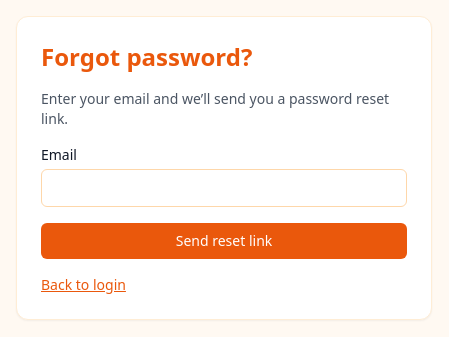
Test: requests an email with a root callback and shows a non-enumerating confirmation
Type "person@example.com" into the field labelled "Email".
click(224, 188); type("person@example.com")  # box [41,169,407,207]
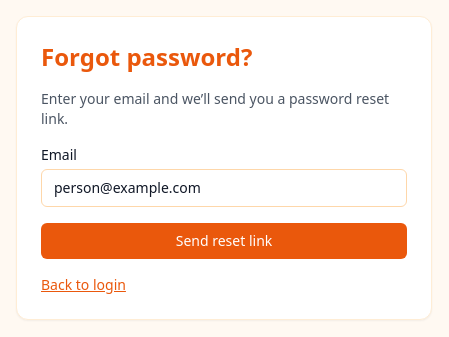
Click the button "Send reset link".
click(224, 241)  # box [41,223,407,259]
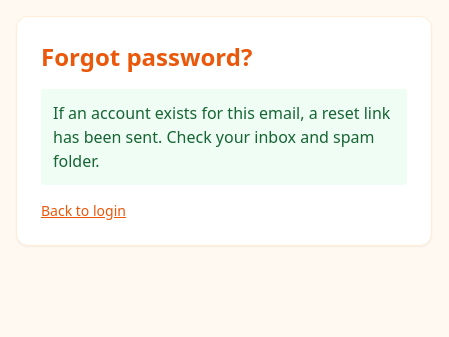
Expected: the message shows "If an account exists", [53,102,390,172]
